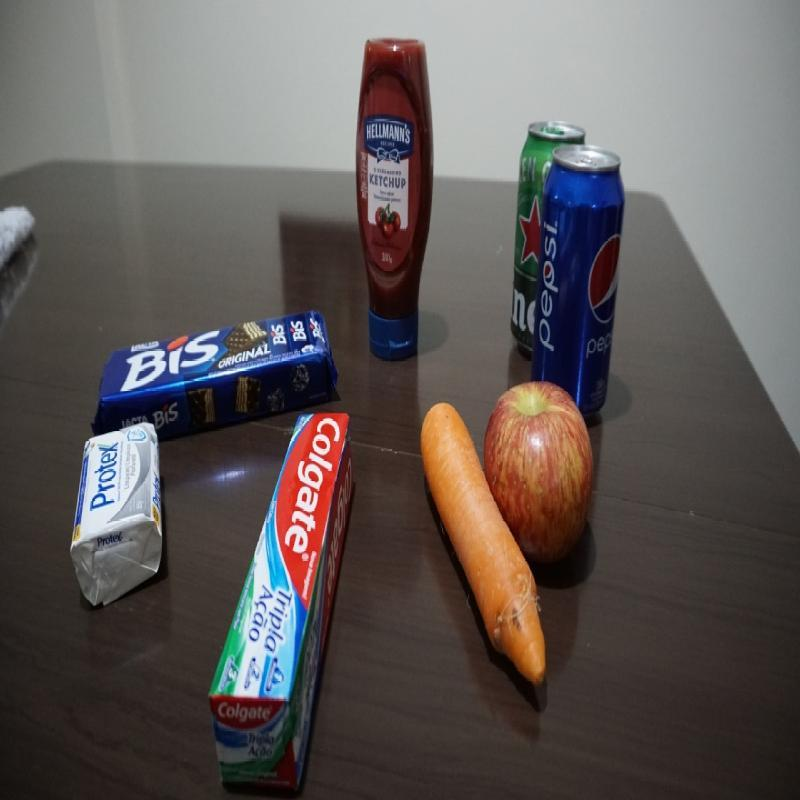Apple: (487, 384, 594, 534)
Beer can: (514, 119, 539, 344)
Carrot: (420, 402, 486, 680)
Ketchup: (358, 37, 432, 357)
Soap: (76, 426, 166, 607)
Soda can: (545, 146, 625, 375)
Toothpaste: (209, 415, 357, 788)
